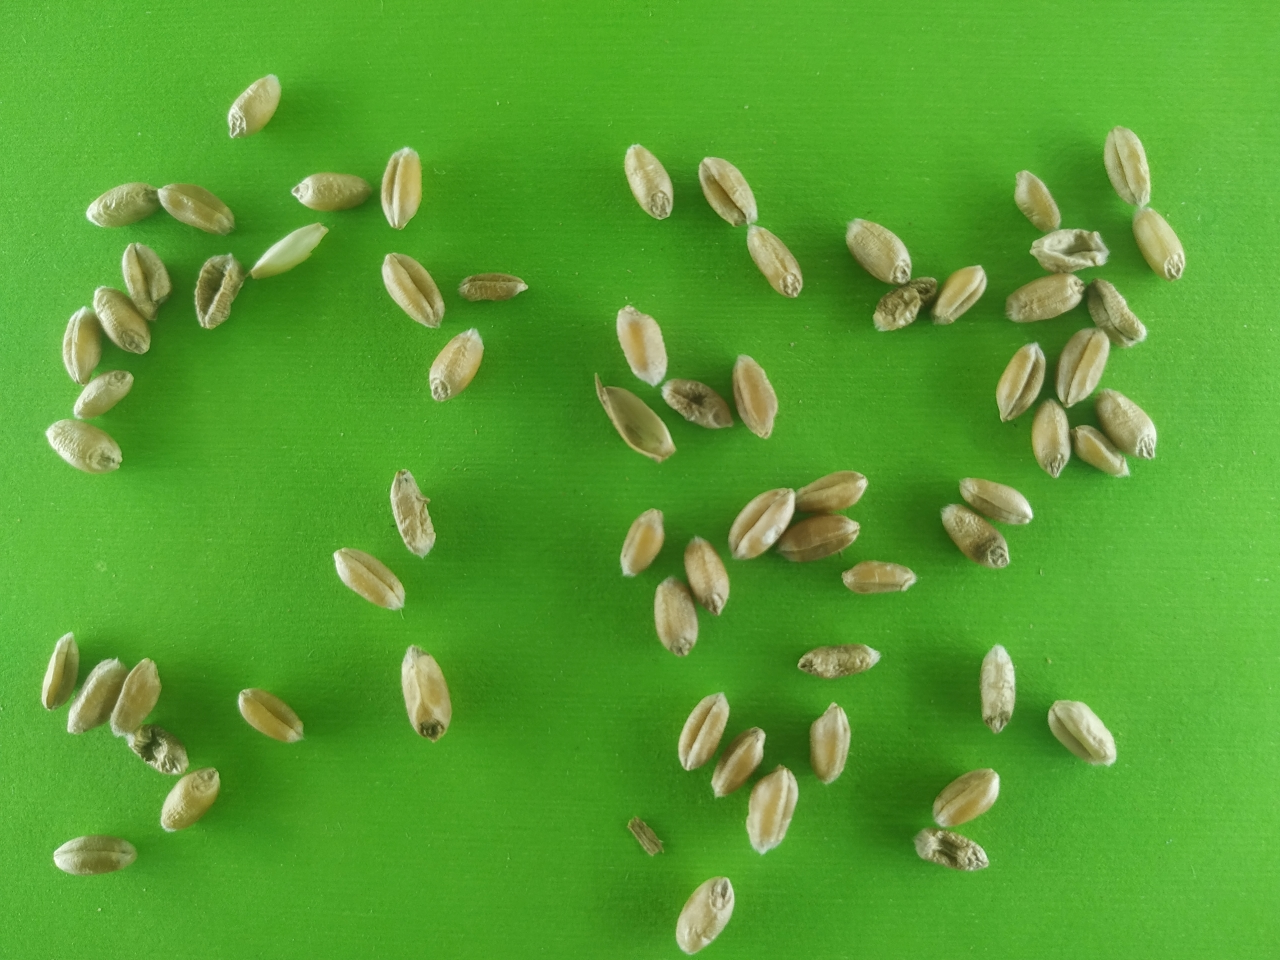bueno: (398, 645, 454, 744), (377, 253, 449, 329), (727, 485, 795, 562), (333, 545, 407, 612), (746, 763, 801, 852), (1044, 701, 1116, 767), (696, 152, 758, 229), (939, 502, 1009, 570), (1096, 388, 1159, 462), (615, 303, 672, 383), (66, 655, 124, 734), (1053, 328, 1111, 407), (677, 877, 737, 954), (43, 417, 124, 474), (388, 467, 437, 559), (1126, 207, 1188, 278), (677, 691, 733, 771), (623, 141, 676, 224), (992, 344, 1045, 425), (432, 325, 488, 402), (157, 183, 235, 238), (846, 218, 910, 284), (160, 764, 223, 833), (933, 766, 1003, 828), (680, 532, 731, 617), (729, 353, 778, 439), (1101, 122, 1150, 208), (90, 285, 150, 355), (710, 724, 768, 796), (747, 225, 804, 297), (1003, 275, 1084, 326), (110, 656, 161, 735), (120, 241, 171, 319), (957, 475, 1033, 527), (777, 516, 863, 562), (238, 687, 305, 744), (285, 170, 374, 214), (85, 177, 161, 227), (51, 835, 138, 878), (231, 72, 285, 138), (929, 265, 990, 325), (380, 145, 421, 232), (654, 577, 698, 655), (37, 632, 81, 711), (979, 643, 1015, 736), (1009, 170, 1062, 233), (1070, 424, 1133, 477), (73, 369, 137, 419), (795, 471, 870, 514), (617, 509, 663, 579), (65, 306, 106, 380), (1033, 399, 1071, 477), (840, 562, 915, 596)
danado: (1086, 277, 1145, 349), (191, 256, 247, 329), (912, 825, 989, 873), (1031, 229, 1111, 273), (875, 275, 938, 330), (663, 380, 734, 429), (796, 642, 882, 681), (124, 730, 189, 776), (459, 270, 530, 302)
impureza: (593, 367, 675, 463), (250, 224, 332, 281), (623, 810, 668, 857)
